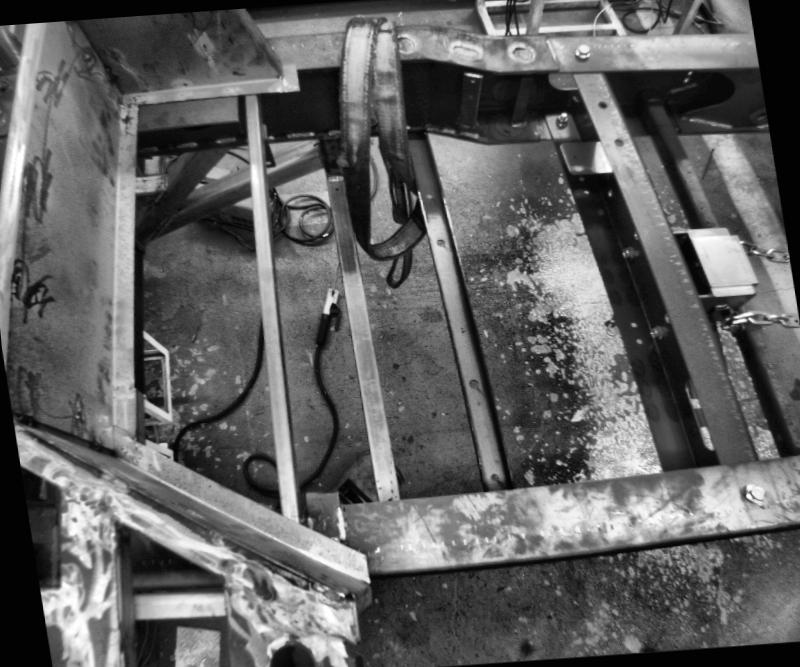bolt: (738, 478, 776, 504), (569, 38, 592, 59), (554, 109, 570, 127), (648, 324, 665, 339), (620, 245, 636, 260)
bracket: (299, 477, 357, 532), (449, 66, 489, 131), (496, 71, 540, 130), (556, 136, 614, 175), (254, 120, 280, 168)
hole: (266, 639, 314, 665), (464, 375, 480, 388), (488, 469, 501, 482), (612, 135, 624, 145), (597, 99, 608, 109), (602, 186, 612, 197), (628, 319, 640, 328), (424, 190, 434, 200), (434, 237, 445, 246), (634, 335, 644, 344), (580, 187, 589, 196), (332, 183, 340, 190), (264, 159, 272, 164), (572, 153, 578, 158), (310, 140, 316, 145), (576, 175, 582, 179)
